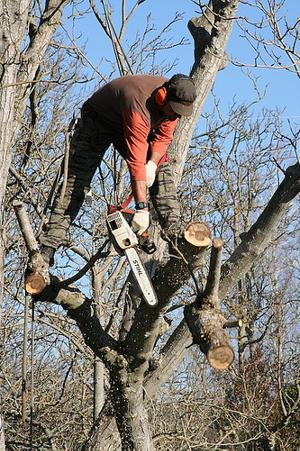person: (26, 72, 198, 296)
